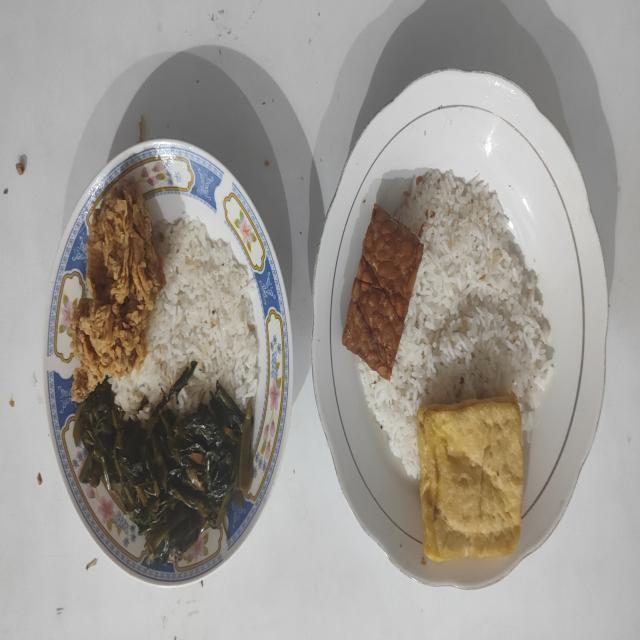nasi_putih: (360, 170, 554, 474), (110, 214, 260, 422)
tahu_goreng: (417, 398, 523, 560)
tempe_goreng: (342, 203, 423, 380)
tumis_kangkung: (73, 361, 253, 564)
